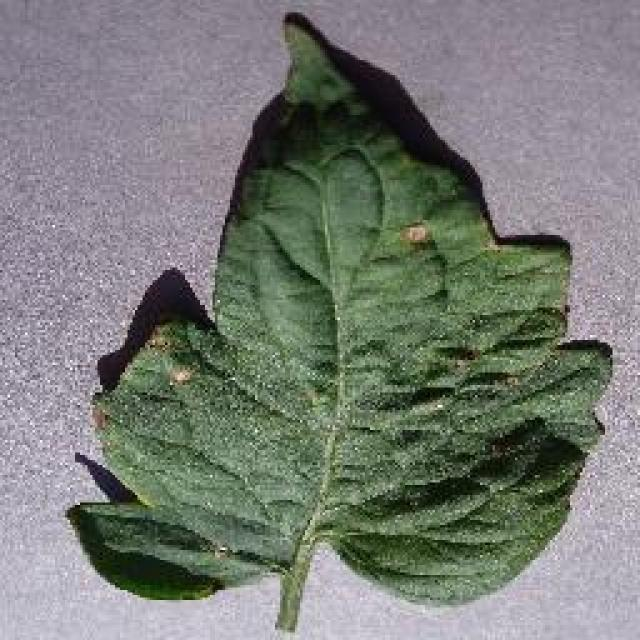Tomato Septoria spot leaf: (66, 19, 614, 611)
